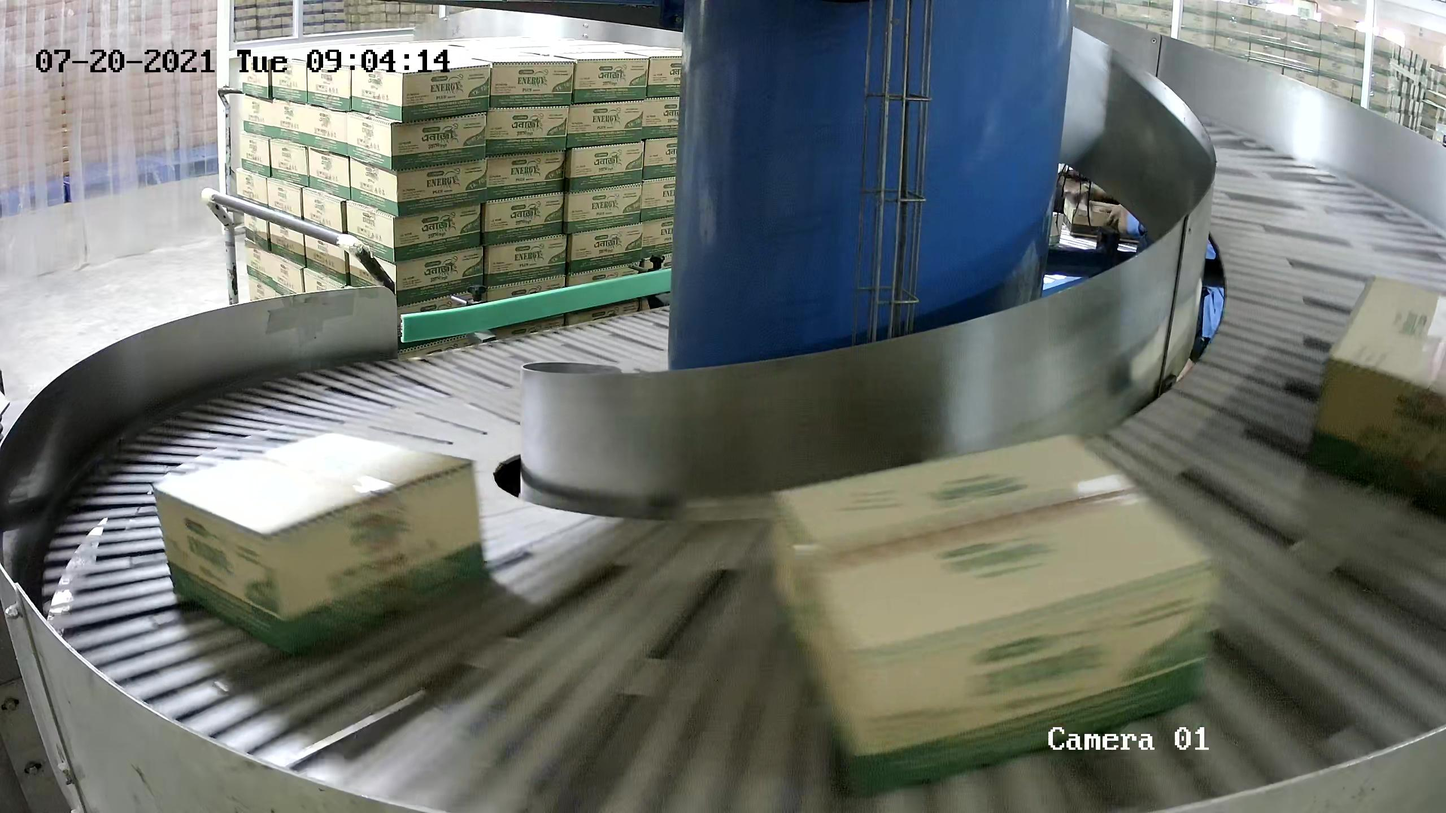Box: (762, 427, 1222, 800), (149, 425, 492, 657), (1308, 271, 1446, 507)
